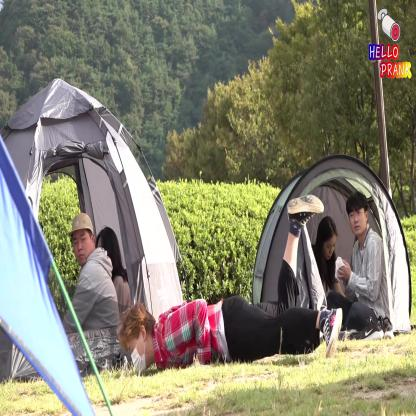Fall_Down: (118, 184, 344, 376)
